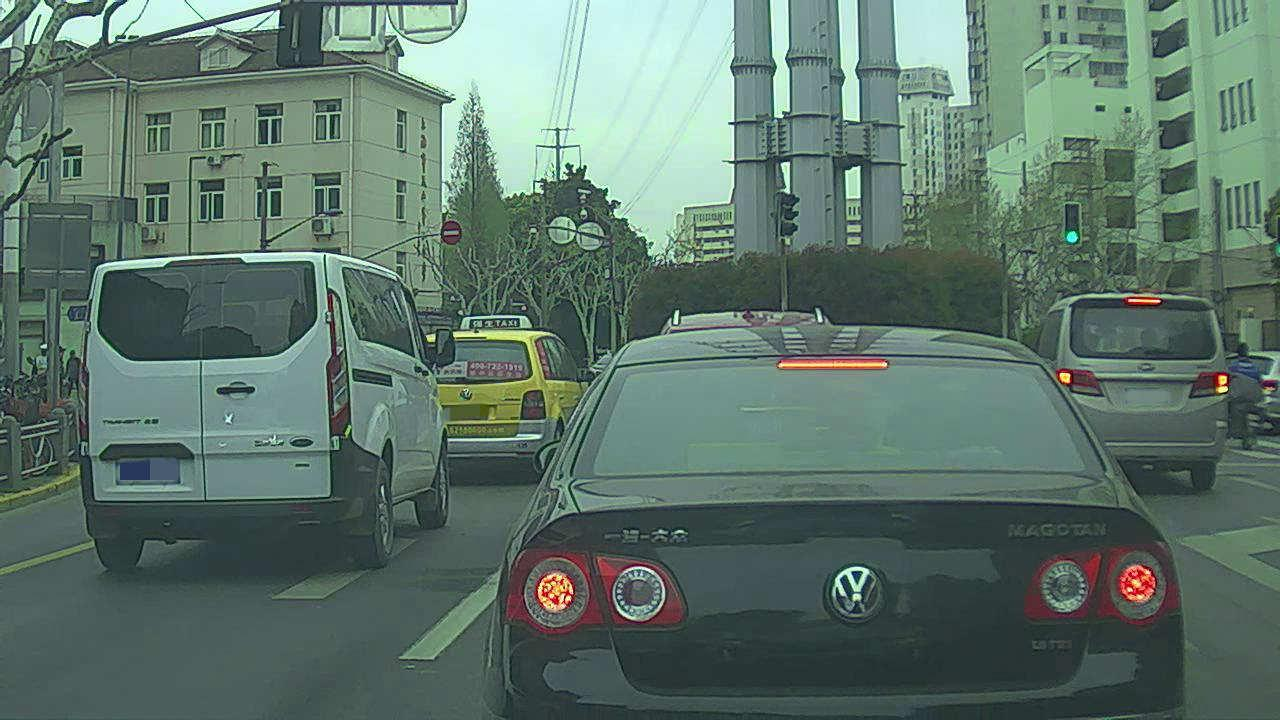traffic_light: (1062, 200, 1084, 246)
